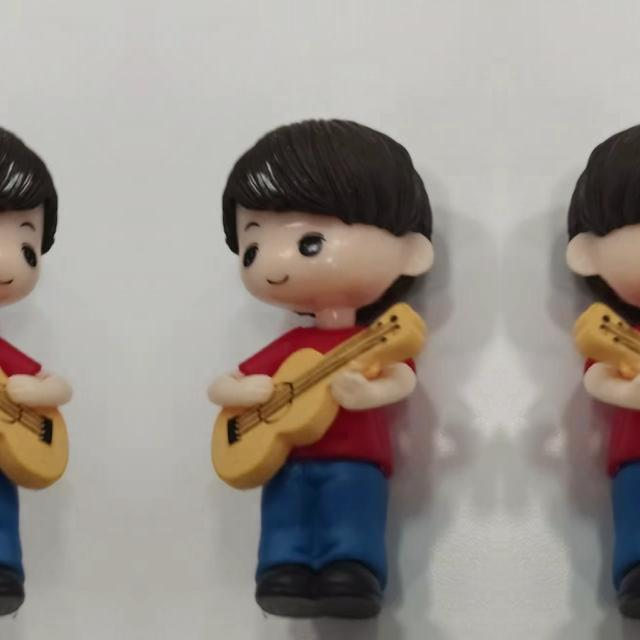man cloth: (234, 326, 424, 474), (576, 325, 640, 474), (0, 325, 46, 474)
man head: (217, 113, 443, 317), (557, 113, 640, 317), (0, 113, 63, 317)
trousers: (250, 450, 398, 626), (602, 450, 640, 625), (0, 450, 29, 625)
